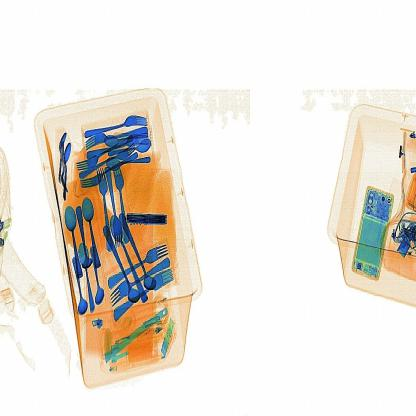scissors: (123, 206, 173, 233)
